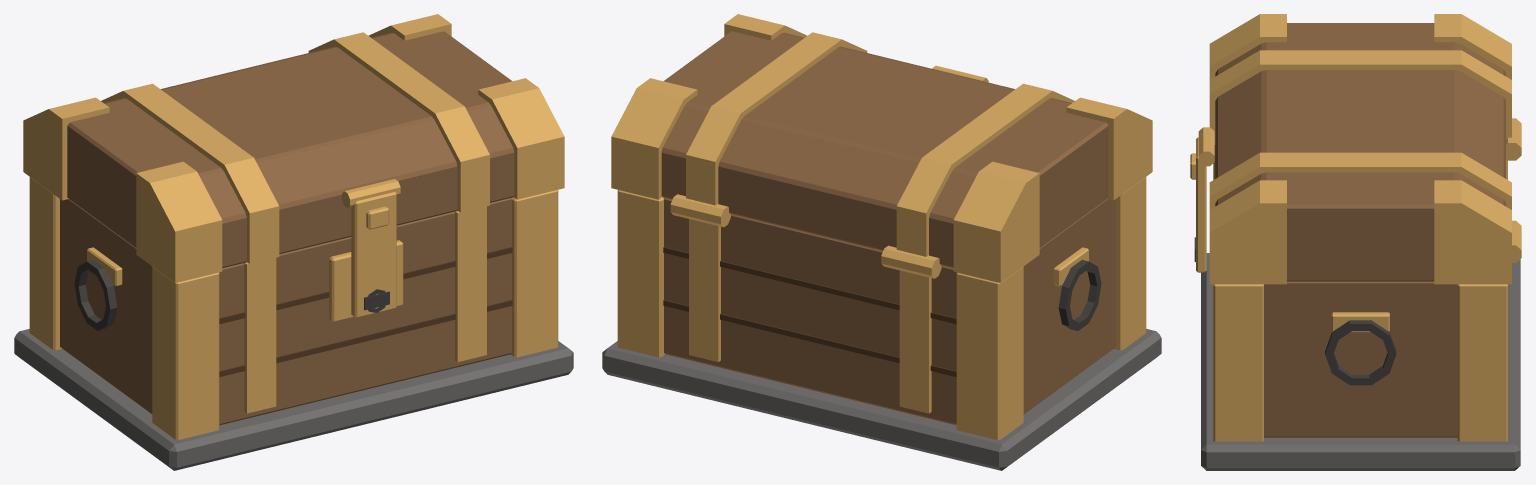
File: chest.glb
3 renders of one model, left to right at view 1: azimuth 30°, elevation 25°; view 2: azimuth 150°, elevation 25°; view 3: azimuth 270°, elevation 25°, orthographic.
Visible parts, largest first — view 1: lid, body, plinth_stone, bracket_fl, lid_corner_fl, bracket_fr, lid_band_r, lid_band_l, lid_corner_fr, band_l, bracket_bl, band_r (+9 smaller); view 2: lid, body, plinth_stone, bracket_bl, lid_corner_bl, bracket_br, lid_band_r, lid_band_l, lid_corner_br, bracket_fl, band_l, band_r (+8 smaller); view 3: lid, body, plinth_stone, bracket_br, bracket_fr, lid_corner_br, lid_corner_fr, lid_band_l, lid_band_r, lid_corner_fl, lid_corner_bl, handle_r (+5 smaller).
Boxes of the visible parts, bbox=[...] form: lid: bbox=[67, 31, 514, 268]; body: bbox=[60, 197, 512, 425]; plinth_stone: bbox=[14, 329, 573, 470]; bracket_fl: bbox=[152, 266, 219, 439]; lid_corner_fl: bbox=[136, 161, 222, 282]; bracket_fr: bbox=[510, 190, 558, 357]; lid_band_r: bbox=[308, 32, 489, 212]; lid_band_l: bbox=[101, 83, 279, 263]; lid_corner_fr: bbox=[478, 78, 564, 199]; band_l: bbox=[244, 258, 276, 413]; bracket_bl: bbox=[29, 177, 61, 350]; band_r: bbox=[455, 206, 486, 362]; lid: bbox=[661, 31, 1108, 268]; body: bbox=[663, 197, 1115, 425]; plinth_stone: bbox=[602, 329, 1161, 470]; bracket_bl: bbox=[956, 266, 1023, 439]; lid_corner_bl: bbox=[953, 161, 1039, 282]; bracket_br: bbox=[617, 190, 665, 357]; lid_band_r: bbox=[686, 32, 867, 205]; lid_band_l: bbox=[896, 83, 1074, 256]; lid_corner_br: bbox=[611, 78, 697, 199]; bracket_fl: bbox=[1114, 177, 1146, 350]; band_l: bbox=[899, 270, 931, 413]; band_r: bbox=[689, 219, 720, 362]; lid: bbox=[1215, 23, 1505, 281]; body: bbox=[1264, 281, 1457, 437]; plinth_stone: bbox=[1201, 253, 1520, 470]; bracket_br: bbox=[1457, 284, 1507, 441]; bracket_fr: bbox=[1213, 284, 1263, 441]; lid_corner_br: bbox=[1434, 180, 1511, 284]; lid_corner_fr: bbox=[1209, 180, 1286, 284]; lid_band_l: bbox=[1209, 50, 1511, 144]; lid_band_r: bbox=[1209, 152, 1511, 209]; lid_corner_fl: bbox=[1209, 14, 1286, 79]; lid_corner_bl: bbox=[1434, 14, 1511, 79]; handle_r: bbox=[1325, 320, 1396, 385].
Size of what is drawn, in the model's own units: 0.96 by 0.607 by 0.6843.
